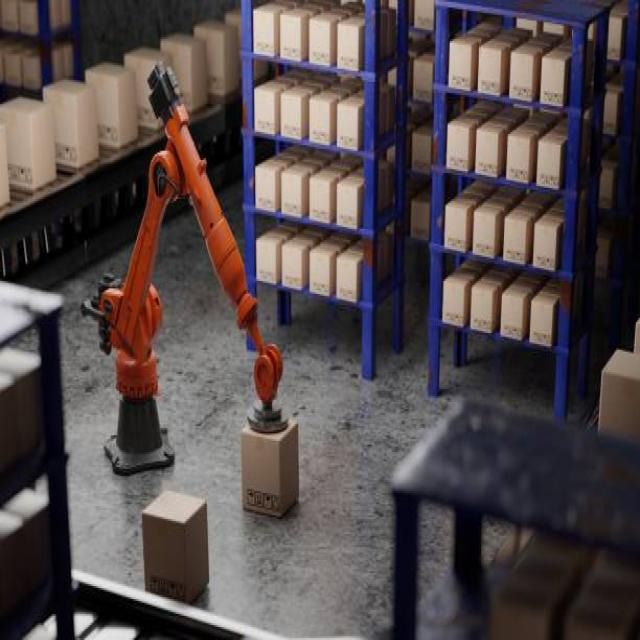Robotic-arm: (80, 46, 292, 479)
